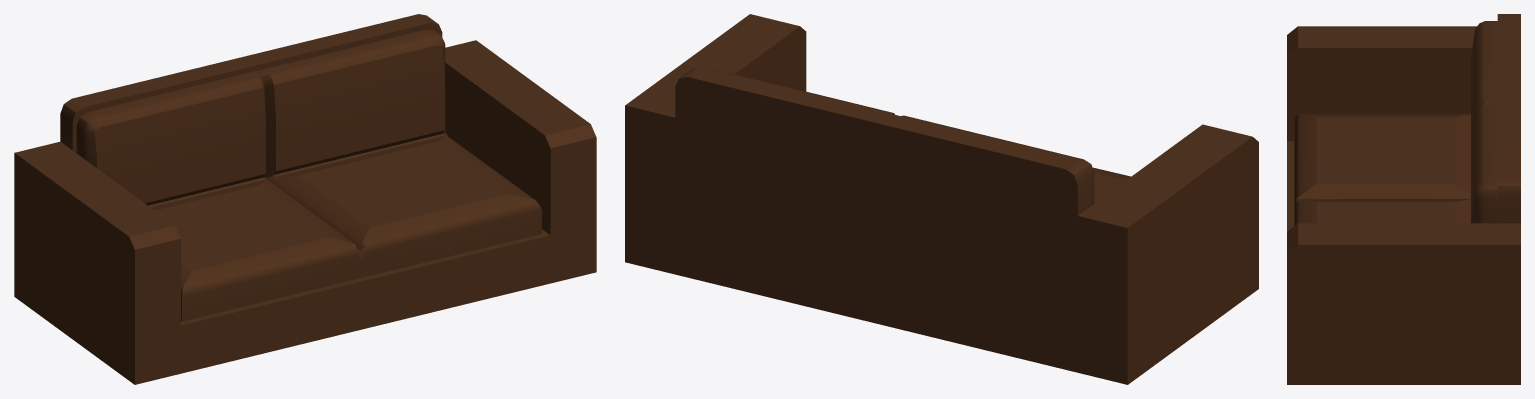
The model's file is hub_couch_twoseat.fbx.
3 renders of one model, left to right at view 1: azimuth 30°, elevation 25°; view 2: azimuth 150°, elevation 25°; view 3: azimuth 270°, elevation 25°, orthographic. The views are drawn at different scales.
Visible parts, largest first — view 1: hub_couch_twoseat; view 2: hub_couch_twoseat; view 3: hub_couch_twoseat.
Boxes of the visible parts, x1,y1,x2,y2 form: hub_couch_twoseat: (14,14,596,384); hub_couch_twoseat: (625,14,1258,384); hub_couch_twoseat: (1287,14,1520,384).
Bounding box in the file's own units: 3.01 × 1.15 × 1.36.
